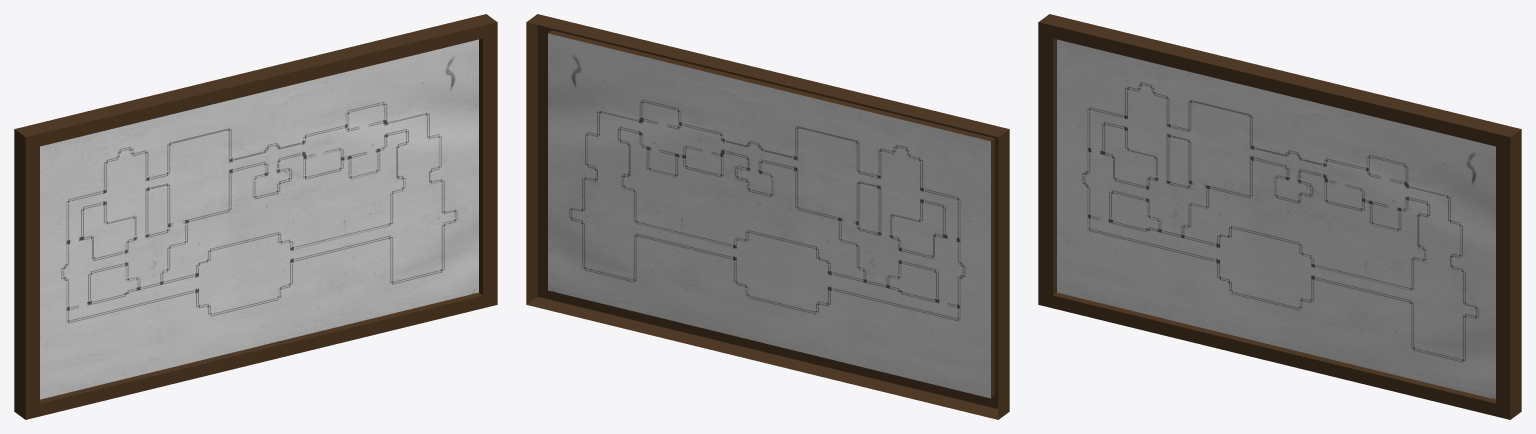
The model's file is Plan01.fbx.
3 views of the same model, side by side, from view 1: azimuth 30°, elevation 25°; view 2: azimuth 150°, elevation 25°; view 3: azimuth 330°, elevation 25° (orthographic).
Parts seen in each view (by area): view 1: Print.001; view 2: Print.001; view 3: Print.001.
Part boxes in pixels (x1,y1,x2,y2): Print.001: (14,14,497,419); Print.001: (526,14,1009,419); Print.001: (1038,14,1521,419).
Size of the model in its own units: 310 by 178 by 12.68.
